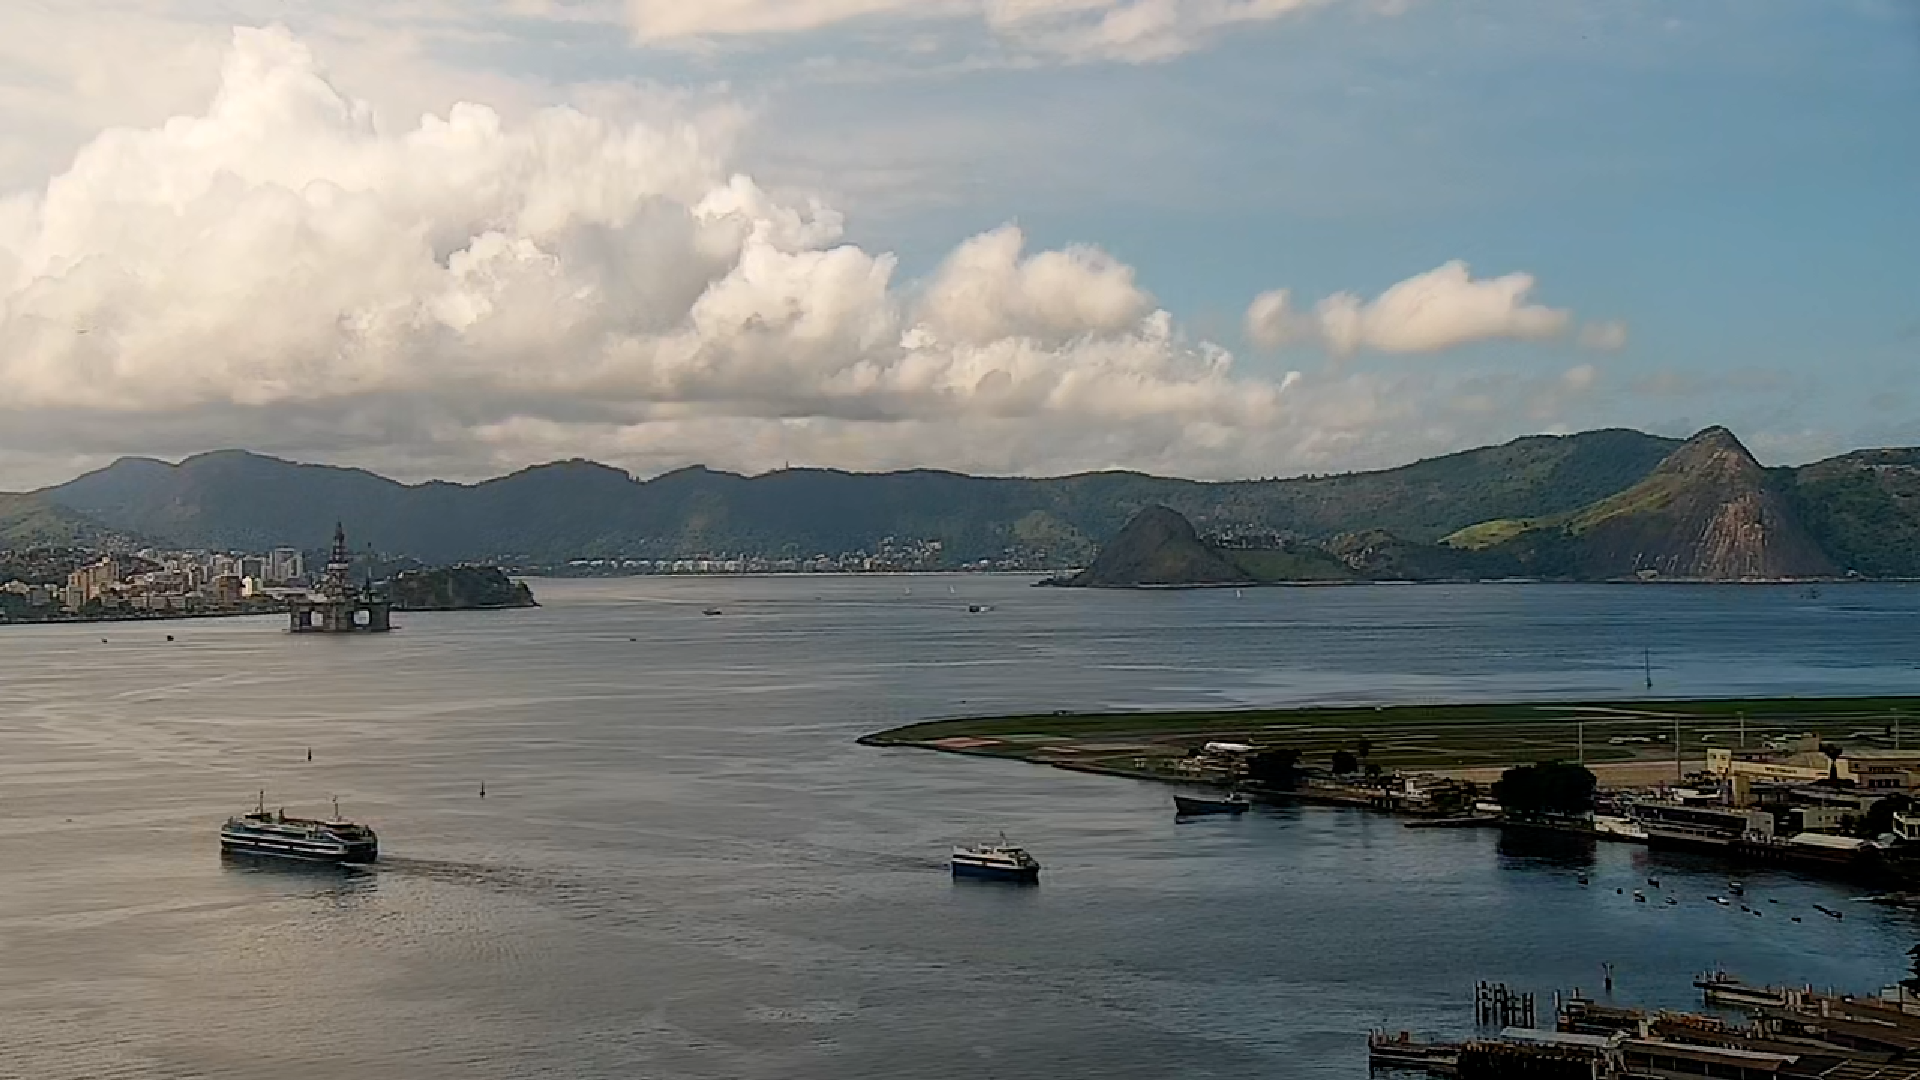Ship1: (214, 779, 386, 876), (949, 822, 1047, 887)
